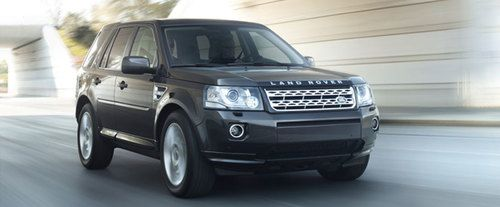pickup: (72, 14, 381, 197)
